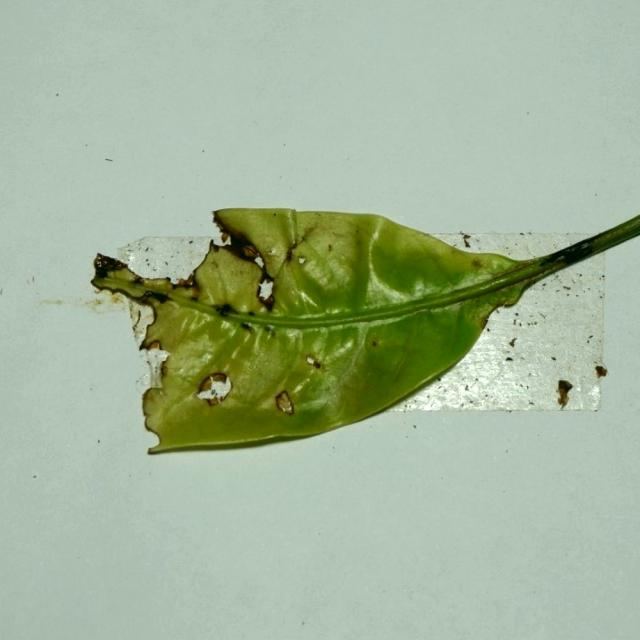Anthracnose: (216, 227, 276, 311), (219, 261, 293, 318), (201, 360, 245, 416), (282, 227, 310, 269), (93, 253, 127, 278), (254, 269, 276, 306), (213, 219, 228, 240), (141, 339, 159, 352), (478, 316, 491, 332), (461, 234, 472, 248), (285, 247, 295, 261), (262, 274, 274, 284)
Mango: (89, 208, 639, 457)
